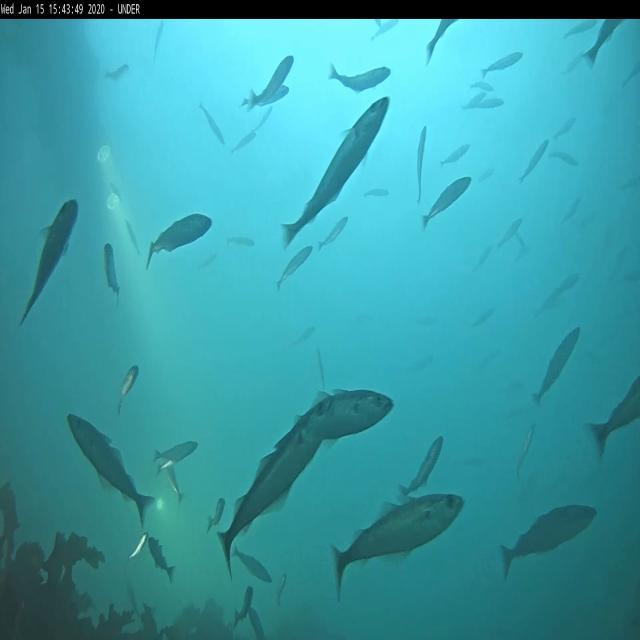fish: (284, 98, 391, 248), (331, 496, 466, 598), (219, 431, 317, 566), (68, 412, 152, 526), (19, 198, 80, 326), (500, 508, 598, 584), (290, 384, 395, 447), (586, 376, 638, 464), (146, 214, 213, 273), (534, 326, 580, 408), (248, 53, 294, 109), (403, 438, 446, 496), (423, 176, 470, 229), (328, 61, 391, 93), (584, 20, 624, 68), (276, 248, 312, 288), (426, 20, 456, 66), (231, 545, 270, 579), (242, 81, 290, 108), (521, 138, 550, 180), (150, 536, 174, 583), (201, 104, 226, 146), (162, 459, 186, 501), (482, 51, 524, 75), (154, 442, 198, 464), (318, 216, 348, 248), (518, 424, 536, 476), (118, 365, 138, 410), (104, 244, 120, 298), (417, 126, 428, 200), (234, 586, 253, 626), (438, 143, 469, 165), (563, 19, 598, 38), (498, 218, 522, 244), (124, 219, 140, 258), (371, 20, 401, 40), (208, 498, 224, 535), (128, 532, 150, 558), (552, 274, 578, 296), (253, 104, 273, 130), (564, 198, 584, 223), (292, 325, 314, 347), (154, 24, 166, 64), (472, 309, 496, 329), (552, 148, 578, 166), (553, 118, 576, 138), (233, 132, 256, 152), (250, 608, 264, 640), (276, 570, 290, 601), (474, 97, 504, 110), (564, 54, 584, 72), (228, 236, 255, 248), (465, 93, 485, 107), (476, 248, 490, 268), (106, 68, 129, 80), (470, 81, 492, 93), (478, 167, 498, 180), (366, 190, 388, 196)
